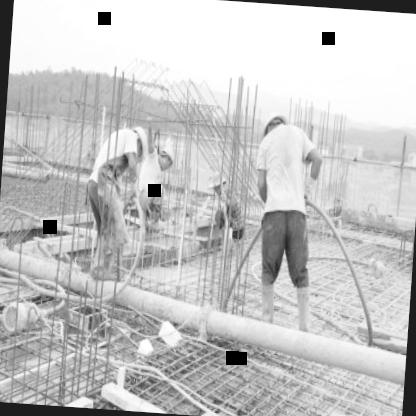helmet: (126, 121, 150, 166), (261, 109, 290, 146), (209, 168, 228, 198), (156, 144, 177, 170)
